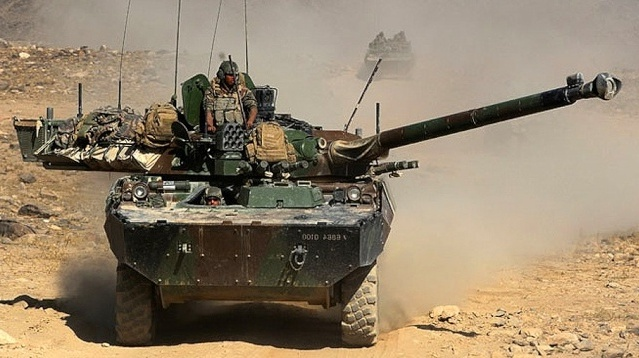license_plate: (299, 231, 351, 244)
